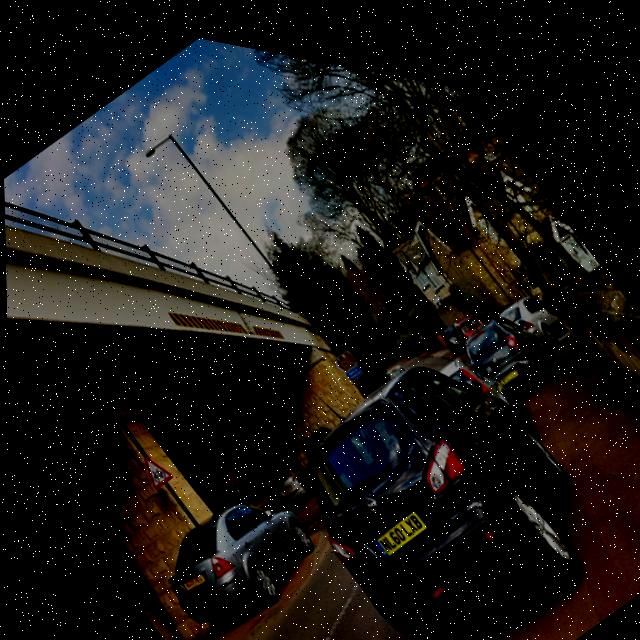license_plate: (364, 479, 429, 552)
